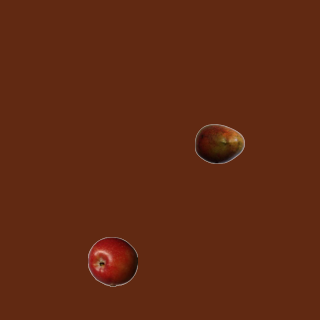Apple Braeburn: (87, 236, 137, 286)
Mango Red: (194, 118, 244, 168)
